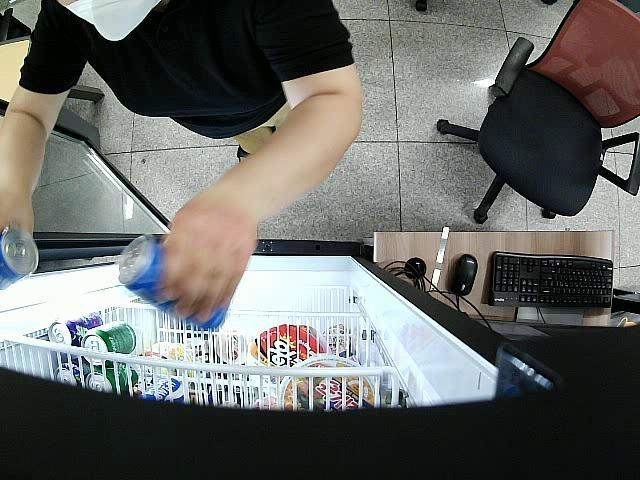15_letsbe: (119, 233, 227, 333), (0, 224, 40, 294)
